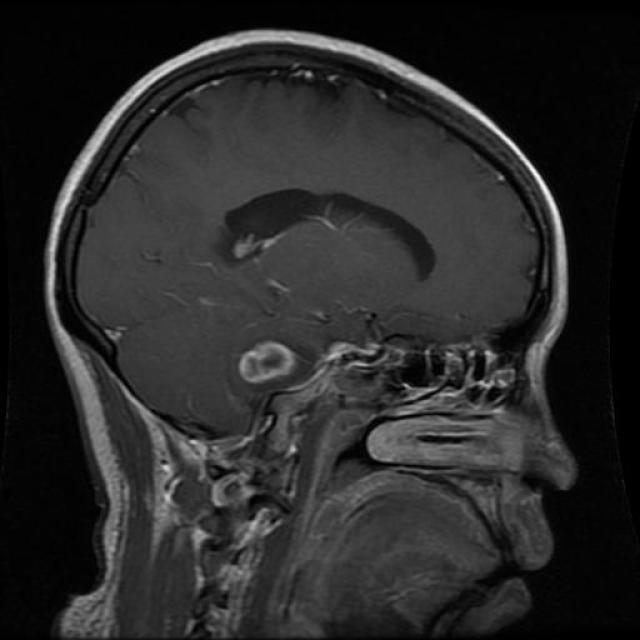glioma: (210, 182, 439, 292)
